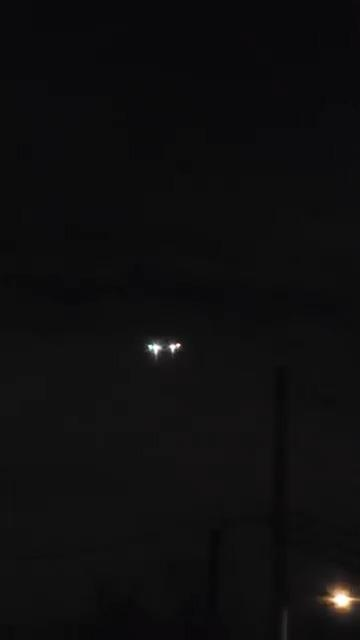Plane: (133, 330, 202, 372)
